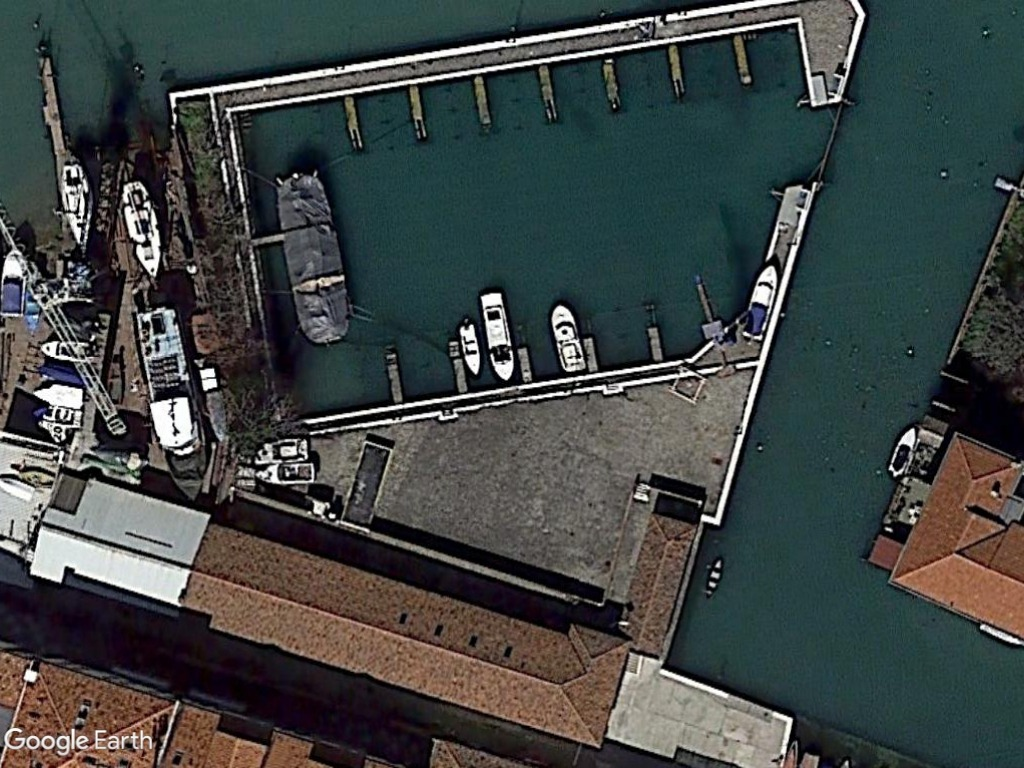boat: (268, 173, 358, 352), (133, 305, 212, 505), (116, 178, 164, 280), (734, 257, 784, 349), (57, 159, 98, 263), (477, 288, 517, 383), (545, 301, 588, 374), (0, 239, 29, 320), (884, 420, 920, 482), (454, 315, 485, 380)
